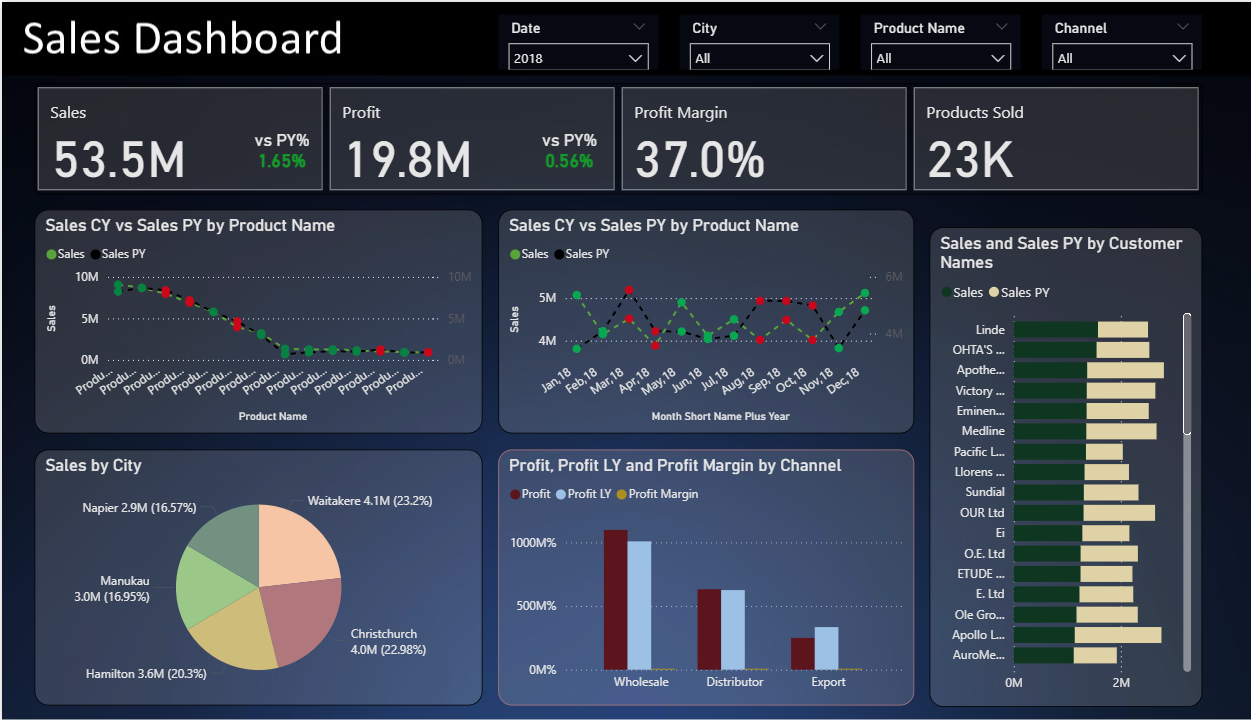

This screenshot's page, from the dashboard's own definition file:
{"tool":"powerbi","page":{"name":"Sales DashBoard","canvas":[1280,720],"ordinal":0},"visuals":[{"type":"slicer","fields":{"Values":["DateTable.Year","DateTable.Month Short Name Plus Year"]},"box":[496,12,160,55],"z":0},{"type":"slicer","fields":{"Values":["Regions_Table.City"]},"box":[677.3,12,160,55],"z":1000},{"type":"slicer","fields":{"Values":["Products_Data.Product Name"]},"box":[858.7,12,160,55],"z":2000},{"type":"slicer","fields":{"Values":["Sales_Data.Channel"]},"box":[1040,12,160,55],"z":3000},{"type":"lineClusteredColumnComboChart","title":"Sales CY vs Sales PY by Product Name","fields":{"Y":["Measure Table.Sales"],"Y2":["Measure Table.Sales PY"],"Category":["Products_Data.Product Name"]},"box":[32,224,448,224],"z":4000},{"type":"lineClusteredColumnComboChart","title":"Sales CY vs Sales PY by Product Name","fields":{"Y":["Measure Table.Sales"],"Y2":["Measure Table.Sales PY"],"Category":["DateTable.Month Short Name Plus Year"]},"box":[496,224,416,224],"z":5000},{"type":"donutChart","fields":{"Y":["Measure Table.Sales"],"Category":["Regions_Table.City"]},"box":[32,464,448,240],"z":6000},{"type":"areaChart","fields":{"Category":["Sales_Data.Channel"],"Y":["Measure Table.Profit","Measure Table.Profit LY"],"Y2":["Measure Table.Profit Margin"]},"box":[496,464,416,240],"z":7000},{"type":"barChart","fields":{"Y":["Measure Table.Sales","Measure Table.Sales PY"],"Category":["Customer_Data.Customer Names"]},"box":[928,224,288,480],"z":8000},{"type":"cardVisual","fields":{"Data":["Measure Table.Sales","Measure Table.Profit","Measure Table.Profit Margin","Measure Table.Products Sold"]},"box":[32,96,1184,112],"z":9000},{"type":"card","title":"vs PY%","fields":{"Values":["Measure Table.Sales vs py %"]},"box":[240,160,80,48],"z":10000},{"type":"card","title":"vs PY%","fields":{"Values":["Measure Table.Profit vs LY %"]},"box":[528,160,80,48],"z":11000}]}

Visuals, with their boxes in screenshot pixels (x1, y1, x2, y2), scaled from the page's 1280x720 canvas onto the 1251x720 screenshot:
slicer - DateTable.Year x DateTable.Month Short Name Plus Year: Rect(485, 12, 641, 67)
slicer - Regions_Table.City: Rect(662, 12, 818, 67)
slicer - Products_Data.Product Name: Rect(839, 12, 996, 67)
slicer - Sales_Data.Channel: Rect(1016, 12, 1173, 67)
"Sales CY vs Sales PY by Product Name" lineClusteredColumnComboChart: Rect(31, 224, 469, 448)
"Sales CY vs Sales PY by Product Name" lineClusteredColumnComboChart: Rect(485, 224, 891, 448)
donutChart - Measure Table.Sales x Regions_Table.City: Rect(31, 464, 469, 704)
areaChart - Sales_Data.Channel x Measure Table.Profit: Rect(485, 464, 891, 704)
barChart - Measure Table.Sales x Measure Table.Sales PY: Rect(907, 224, 1188, 704)
cardVisual - Measure Table.Sales x Measure Table.Profit: Rect(31, 96, 1188, 208)
"vs PY%" card: Rect(235, 160, 313, 208)
"vs PY%" card: Rect(516, 160, 594, 208)
